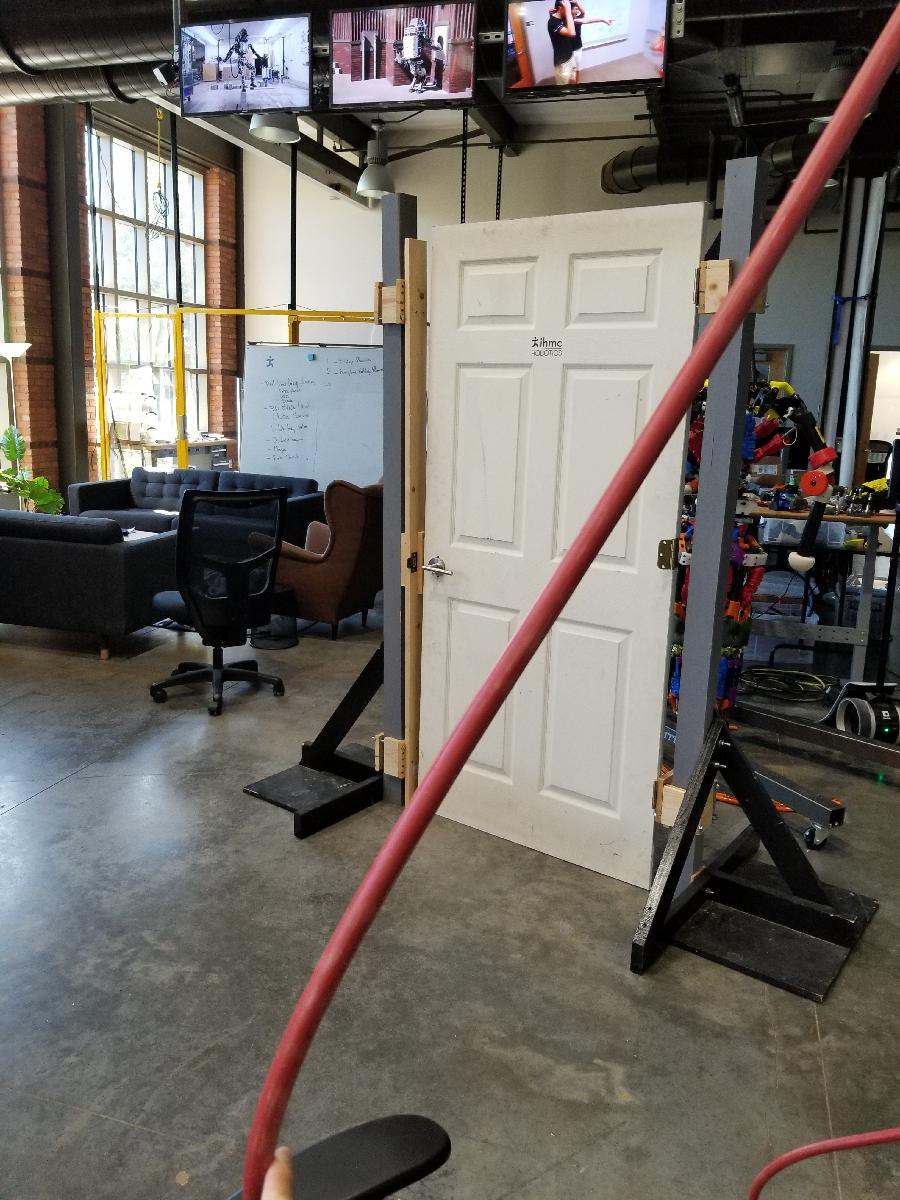door: (416, 196, 713, 907)
doorHandle: (417, 554, 454, 585)
